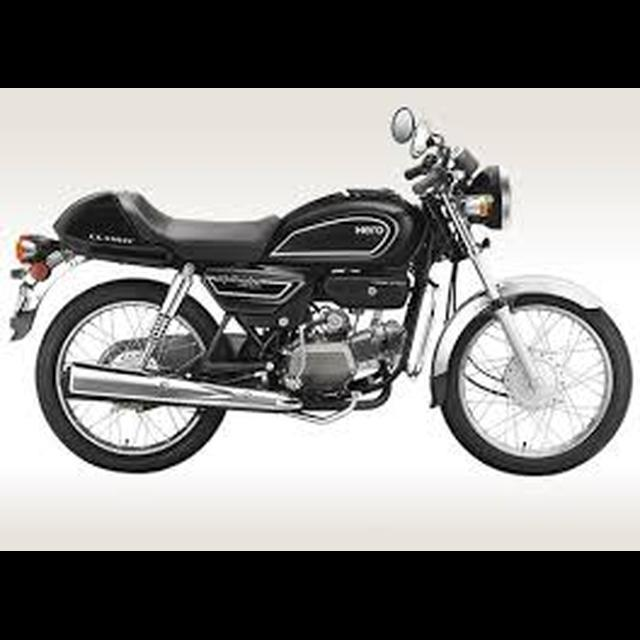motorcycle: (5, 103, 638, 479)
